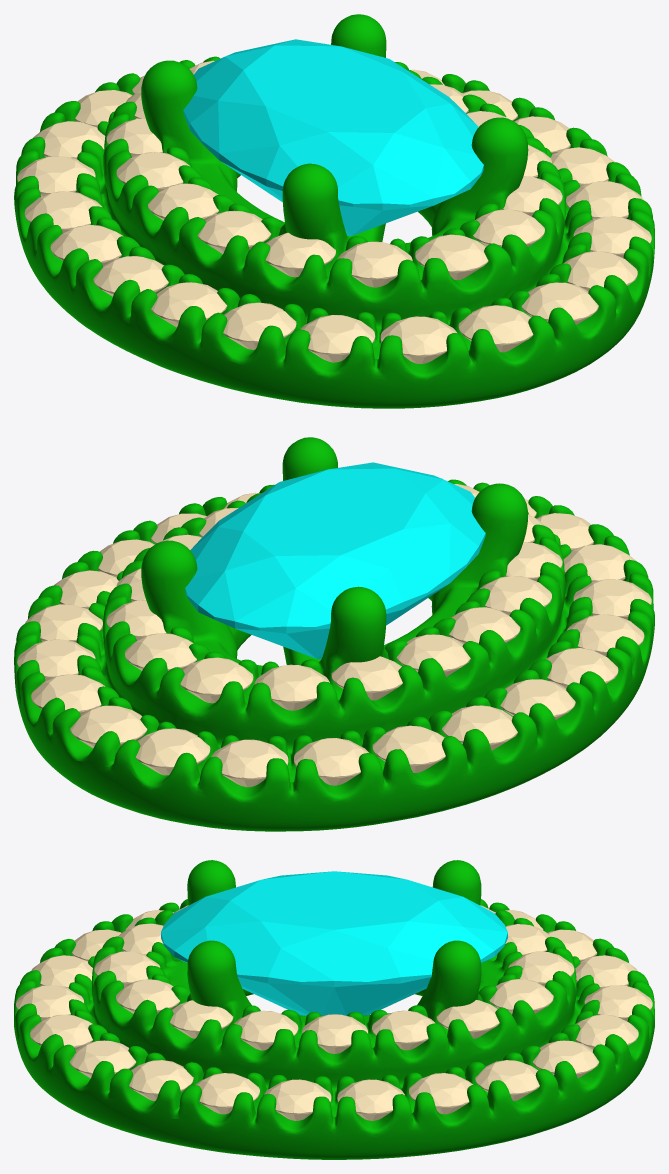
3 views of the same model, one above another, from view 1: azimuth 30°, elevation 25°; view 2: azimuth 150°, elevation 25°; view 3: azimuth 270°, elevation 25° (orthographic). The views are drawn at different scales.
Parts seen in each view (by area): view 1: Metal01, Diamond_Oval, Diamond_Round.015, Diamond_Round.016, Diamond_Round.014, Diamond_Round.013, Diamond_Round.033, Diamond_Round.034, Diamond_Round.017, Diamond_Round.012, Diamond_Round.011, Diamond_Round.031 (+17 smaller); view 2: Metal01, Diamond_Oval, Diamond_Round.006, Diamond_Round.007, Diamond_Round.008, Diamond_Round.009, Diamond_Round.005, Diamond_Round.026, Diamond_Round.027, Diamond_Round, Diamond_Round.010, Diamond_Round.004 (+17 smaller); view 3: Metal01, Diamond_Oval, Diamond_Round.001, Diamond_Round.021, Diamond_Round.002, Diamond_Round.020, Diamond_Round.003, Diamond_Round.019, Diamond_Round.004, Diamond_Round.023, Diamond_Round.018, Diamond_Round.037 (+17 smaller).
Boxes of the visible parts, x1,y1,x2,y2 form: Metal01: (14,14,654,408); Diamond_Oval: (183,39,483,235); Diamond_Round.015: (380,316,457,363); Diamond_Round.016: (458,305,533,352); Diamond_Round.014: (300,315,375,362); Diamond_Round.013: (223,302,296,349); Diamond_Round.033: (337,241,412,287); Diamond_Round.034: (415,234,488,280); Diamond_Round.017: (521,282,598,324); Diamond_Round.012: (151,282,227,327); Diamond_Round.011: (93,256,168,296); Diamond_Round.031: (197,210,271,254); Metal01: (14,437,654,831); Diamond_Oval: (185,462,485,658); Diamond_Round.006: (135,728,210,775); Diamond_Round.007: (211,739,288,787); Diamond_Round.008: (294,738,368,785); Diamond_Round.009: (372,725,445,772); Diamond_Round.005: (70,705,147,748); Diamond_Round.026: (180,657,253,703); Diamond_Round.027: (254,664,329,710); Diamond_Round: (442,705,517,750); Diamond_Round.010: (500,679,575,719); Diamond_Round.004: (31,674,105,714); Metal01: (14,860,654,1159); Diamond_Oval: (161,871,507,1015); Diamond_Round.001: (337,1079,404,1120); Diamond_Round.021: (264,1079,331,1120); Diamond_Round.002: (409,1073,473,1114); Diamond_Round.020: (195,1073,259,1114); Diamond_Round.003: (475,1060,539,1100); Diamond_Round.019: (129,1060,193,1100); Diamond_Round.004: (532,1040,599,1078); Diamond_Round.023: (372,1010,435,1050); Diamond_Round.018: (69,1040,136,1078); Diamond_Round.037: (234,1010,298,1050).
Bounding box in the file's own units: 11.21 × 5.88 × 13.64.
